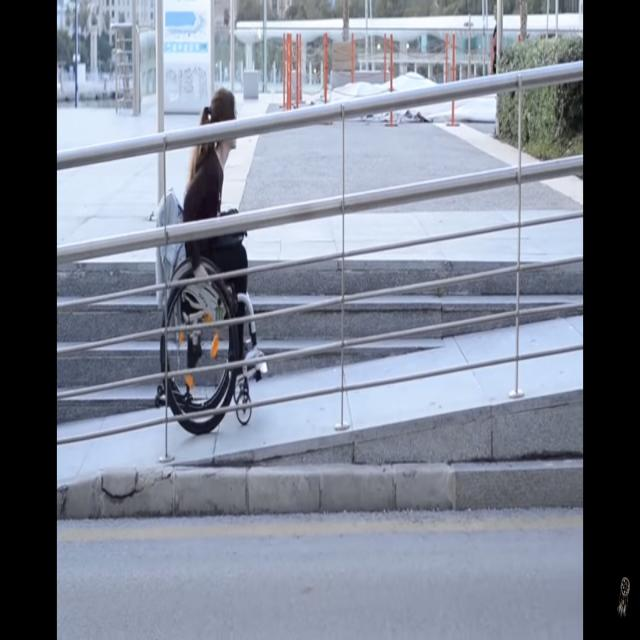wheelchairs: (152, 187, 269, 431)
